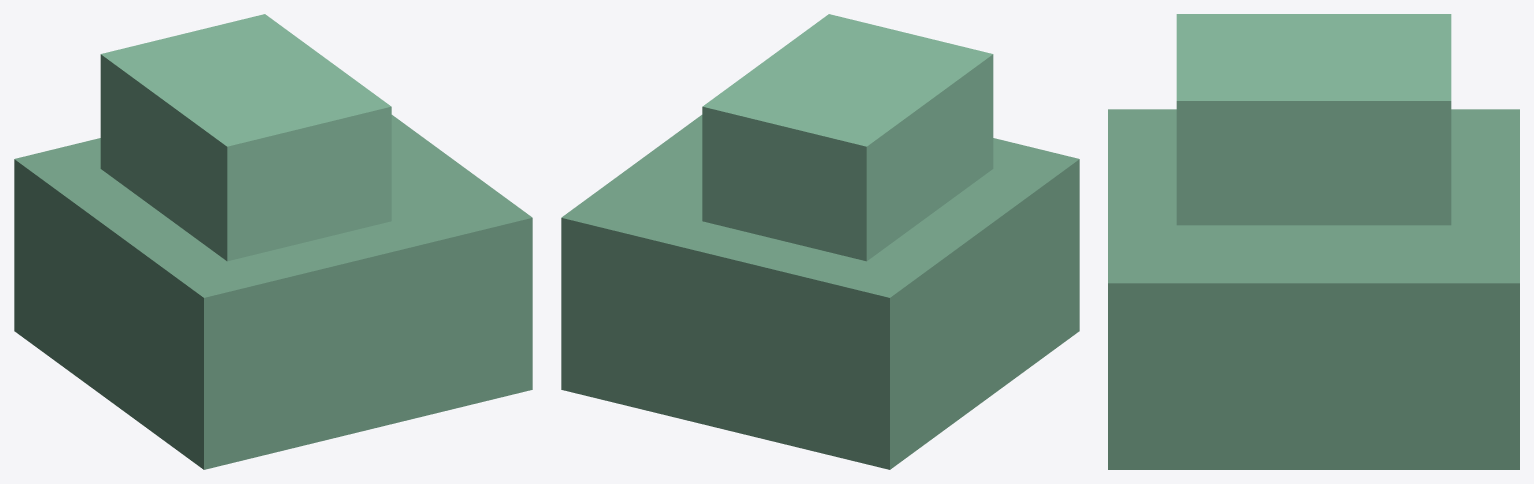
Rendered from lampara_alquimista_01.glb.
3 views of the same model, side by side, from view 1: azimuth 30°, elevation 25°; view 2: azimuth 150°, elevation 25°; view 3: azimuth 270°, elevation 25° (orthographic). The views are drawn at different scales.
Visible parts, largest first — view 1: lampara_alquimista; view 2: lampara_alquimista; view 3: lampara_alquimista.
Part boxes in pixels (x1=…): lampara_alquimista: x1=14, y1=14, x2=532, y2=469; lampara_alquimista: x1=561, y1=14, x2=1079, y2=469; lampara_alquimista: x1=1108, y1=14, x2=1519, y2=469.
Size of the model in its own units: 0.6 by 0.5 by 0.6.
